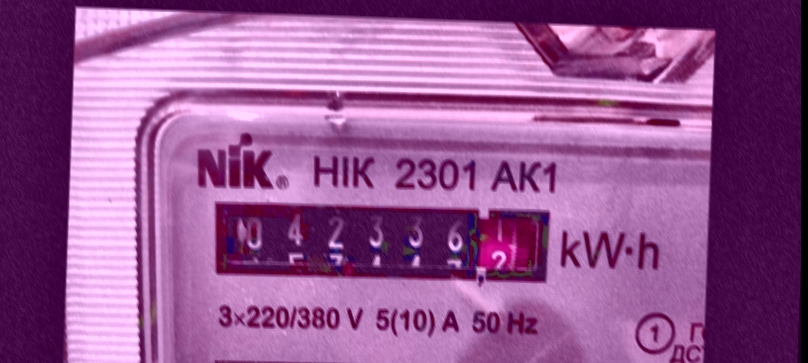0: (241, 214, 263, 250)
1: (490, 214, 504, 244)
2: (322, 213, 344, 250), (486, 248, 506, 270)
3: (363, 211, 384, 249), (402, 212, 423, 249)
4: (283, 209, 303, 247)
6: (440, 217, 464, 252)
screen: (202, 188, 557, 294)
